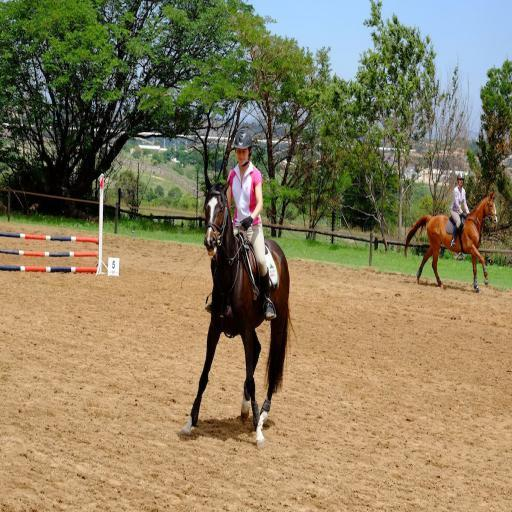horse: (181, 168, 299, 452), (404, 192, 498, 287)
